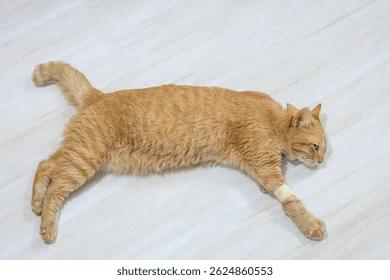fracture: (246, 145, 343, 253)
